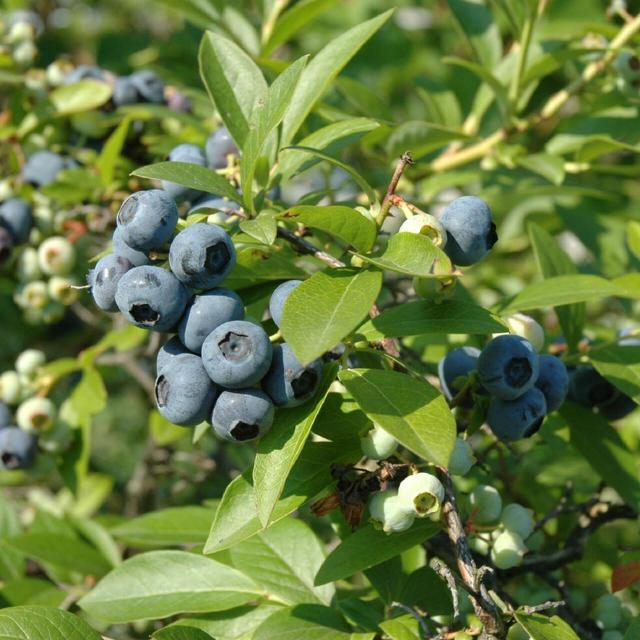BlueBerry - v1: (197, 312, 279, 392), (146, 347, 222, 433), (104, 260, 194, 332), (164, 215, 240, 291), (173, 285, 251, 358), (434, 185, 503, 265), (472, 327, 544, 401), (108, 185, 183, 253), (206, 383, 280, 449), (267, 333, 329, 411), (486, 386, 554, 448), (438, 335, 498, 403), (394, 464, 450, 524), (83, 250, 139, 308), (394, 205, 452, 259), (536, 345, 582, 413), (19, 143, 72, 200), (486, 519, 536, 578), (456, 475, 504, 533), (34, 232, 80, 282), (1, 420, 43, 473), (10, 392, 58, 438), (496, 499, 540, 543)
